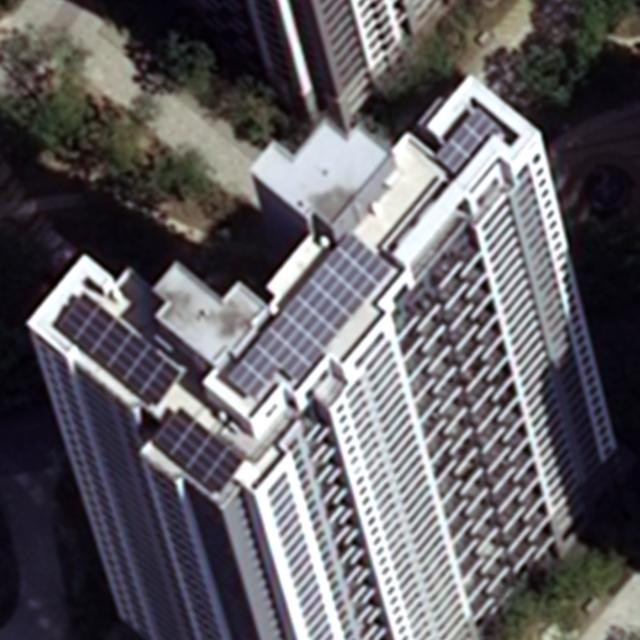panel: (222, 231, 399, 400), (51, 290, 181, 409), (151, 406, 246, 500), (436, 106, 503, 178)
